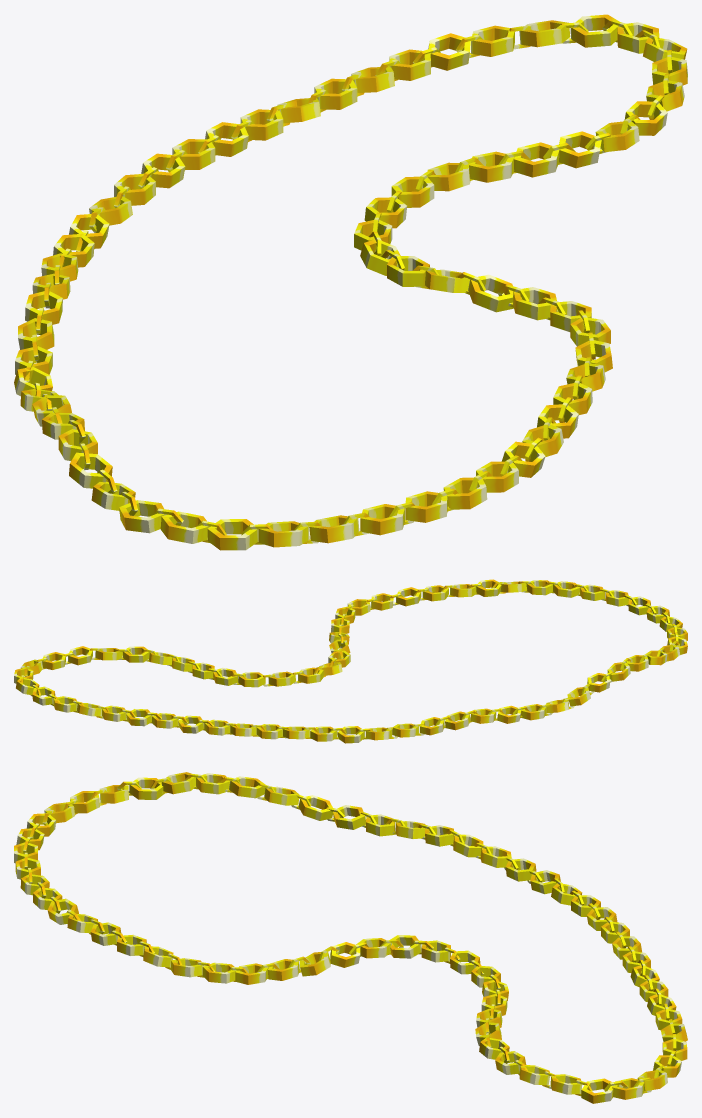
File: chain_003.fbx
3 renders of one model, top to bottom at view 1: azimuth 30°, elevation 25°; view 2: azimuth 150°, elevation 25°; view 3: azimuth 270°, elevation 25°, orthographic. The views are drawn at different scales.
Visible parts, largest first — view 1: chain_003; view 2: chain_003; view 3: chain_003.
Boxes of the visible parts, bbox=[...] form: chain_003: bbox=[14, 14, 687, 550]; chain_003: bbox=[14, 579, 687, 743]; chain_003: bbox=[14, 772, 687, 1103].
Size of the model in its own units: 26 by 1.28 by 23.85.
